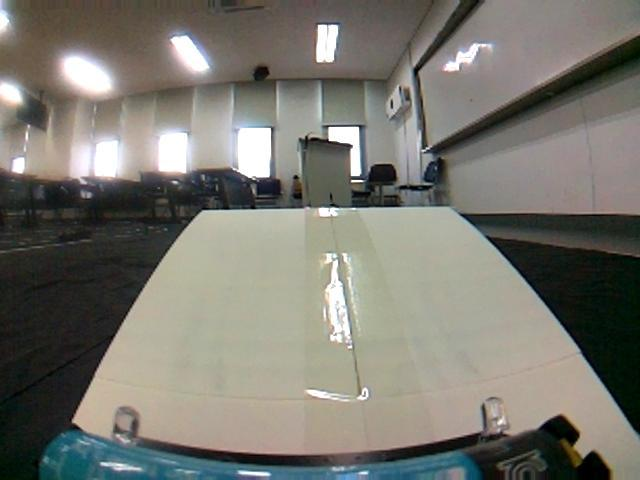hill_up: (7, 202, 640, 480)
